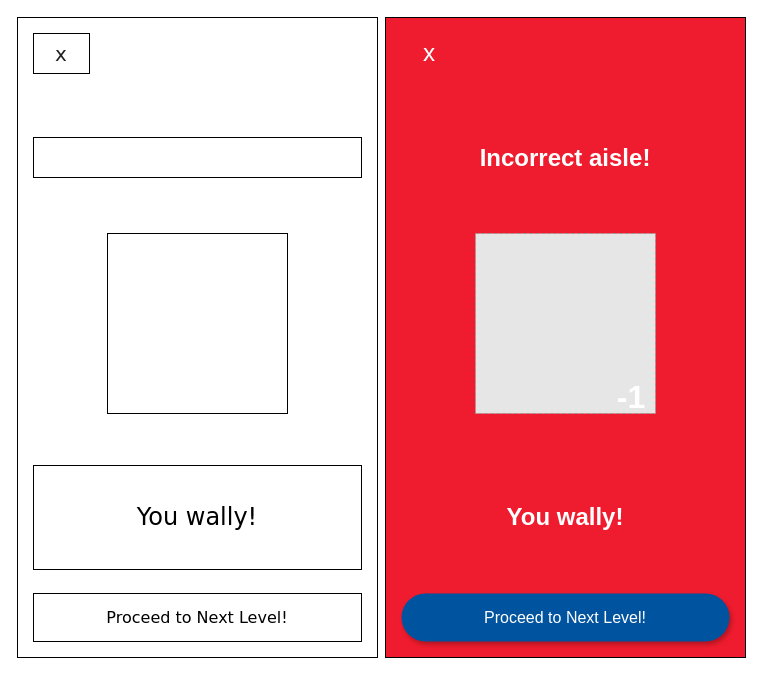
Image size: 763x675. Some labels were removed from this diagram. Grey dashed boxes stand in for pictures. Here are the shapes that lost their labels. From the top down, the centre of each, then its label:
the point at 197,157: Incorrect aisle.
the point at 197,323: heartbreak emoji
